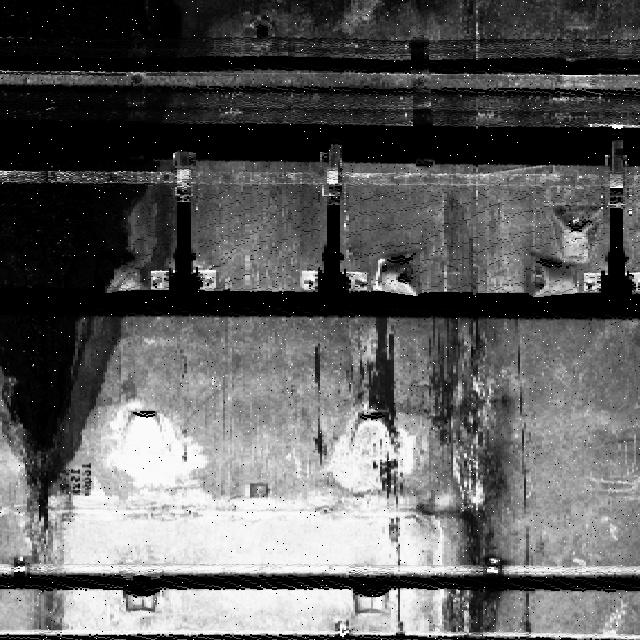leakage: (0, 6, 266, 551), (412, 324, 515, 640), (309, 316, 401, 524)
